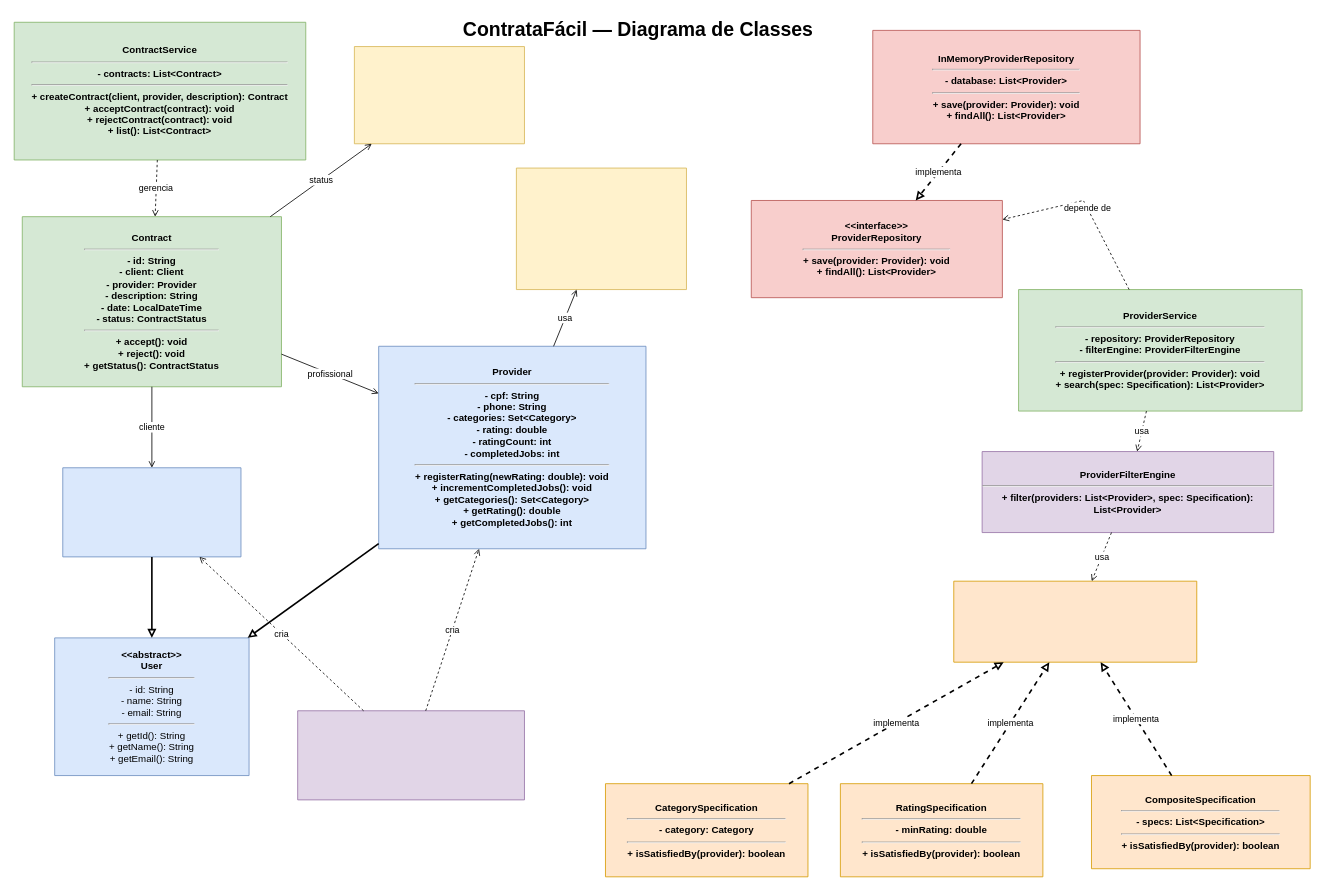
Some shapes in this 1324 by 891 pixel diagram are drawn without their labels. The centre of each missing label's shape, as x and y in pixels:
"<<enum>> Category CARPENTRY GLASSWORK CLEANING ELECTRICAL PLUMBING" goes at point 601,228.
"<<enum>> ContractStatus PENDING ACCEPTED REJECTED" goes at point 439,95.
"<<interface>> Specification + isSatisfiedBy(provider: Provider): boolean" goes at point 1075,621.
"Client - password: String + getPassword(): String" goes at point 151,512.
"UserFactory + createClient(...): Client + createProvider(...): Provider" goes at point 410,755.
